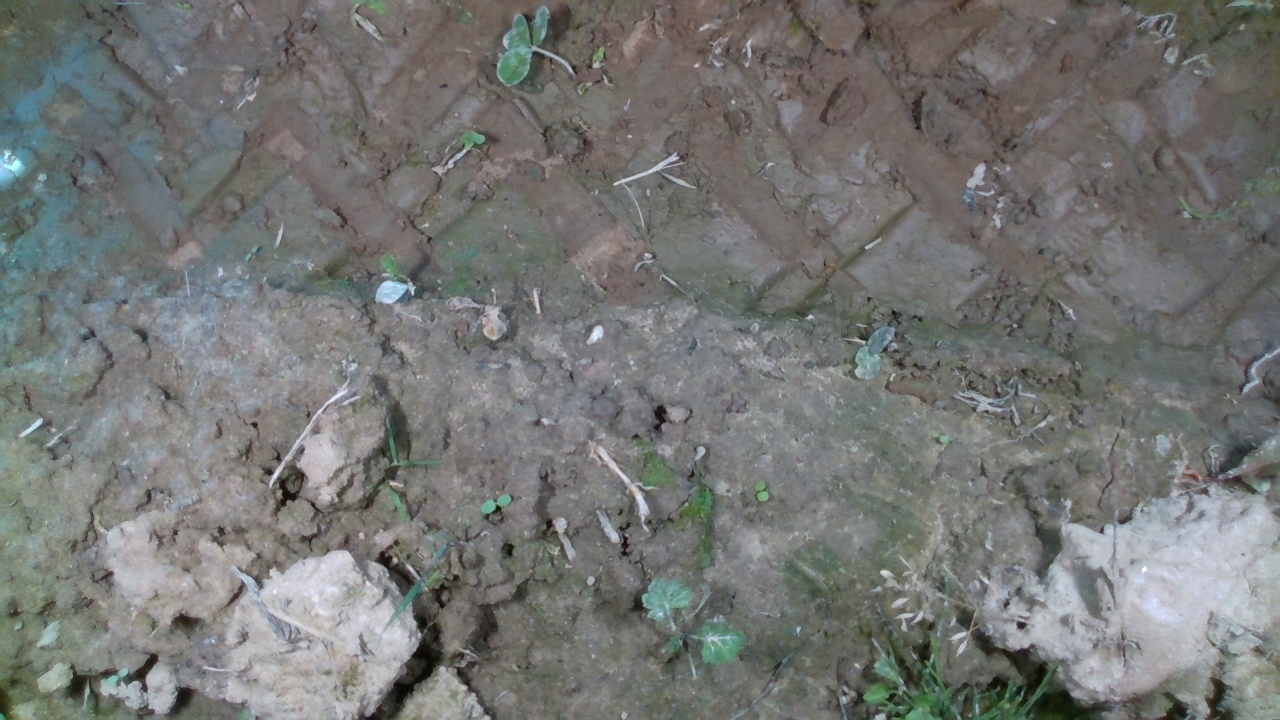weed: (479, 492, 512, 515), (753, 476, 770, 503)
